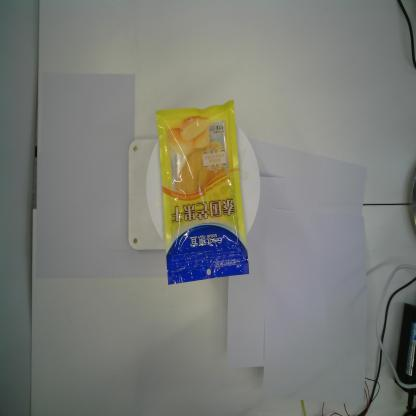Dried Fruit: (154, 99, 250, 286)
